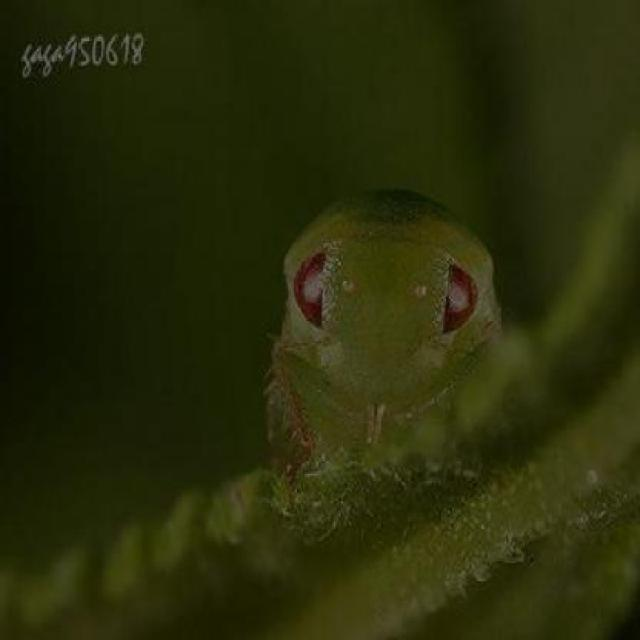green-leafhopper: (279, 177, 506, 446)
